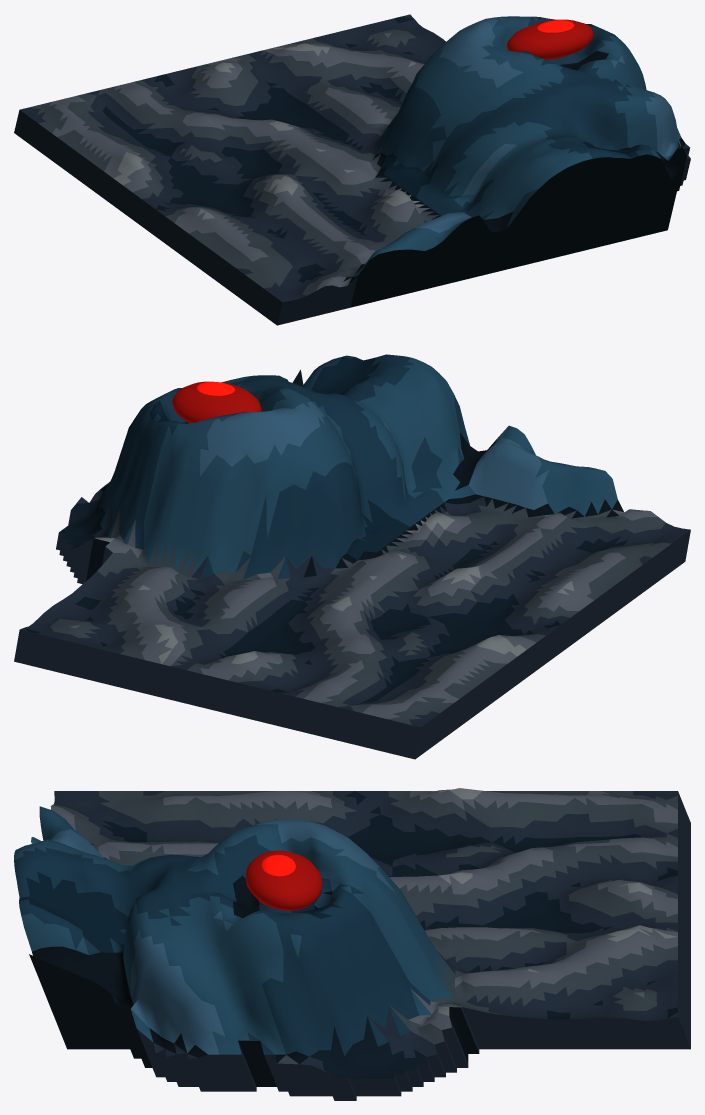
Rendered from gyges_lurker_tl.glb.
3 views of the same model, one above another, from view 1: azimuth 30°, elevation 25°; view 2: azimuth 150°, elevation 25°; view 3: azimuth 270°, elevation 25° (orthographic). The views are drawn at different scales.
Parts seen in each view (by area): view 1: gyges_lurker_tl; view 2: gyges_lurker_tl; view 3: gyges_lurker_tl.
Boxes of the visible parts, x1=… form: gyges_lurker_tl: x1=14, y1=14, x2=690, y2=325; gyges_lurker_tl: x1=14, y1=354, x2=690, y2=759; gyges_lurker_tl: x1=14, y1=788, x2=690, y2=1100.
Bounding box in the file's own units: 29.5 × 8.66 × 30.39.
